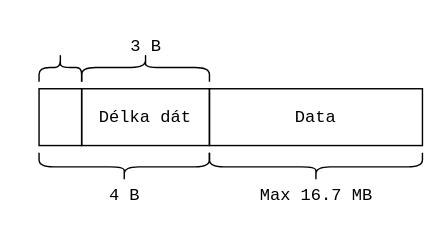
Some shapes in this 447 by 240 pixel diagram are drawn without their labels. Each missing label, with the centre of its shape:
"1 B" belongs at point (60, 67).
"Typ" belongs at point (60, 116).
